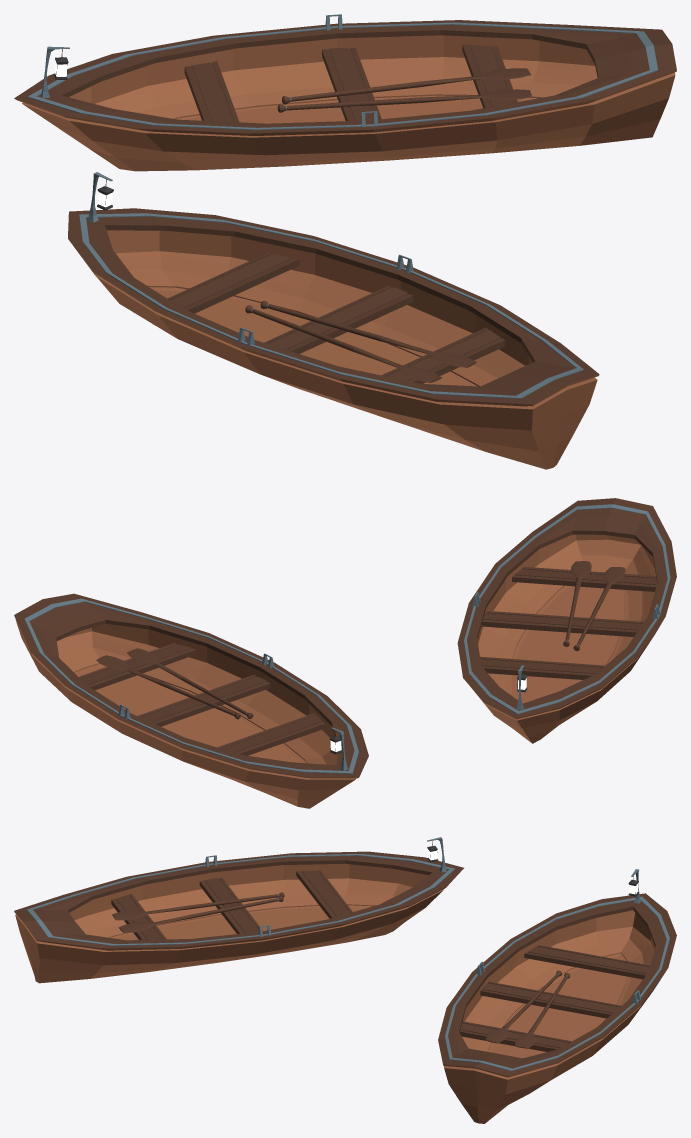
The model's file is Boats.glb.
The picture shows the model from 3 angles, top to bottom: view 1: azimuth 30°, elevation 25°; view 2: azimuth 150°, elevation 25°; view 3: azimuth 270°, elevation 25°; orthographic projection. The views are drawn at different scales.
Parts seen in each view (by area): view 1: botobj_Mesh, botobj_Mesh1; view 2: botobj_Mesh, botobj_Mesh1; view 3: botobj_Mesh1, botobj_Mesh.
Boxes of the visible parts, x1,y1,x2,y2 form: botobj_Mesh: (14, 14, 676, 171); botobj_Mesh1: (68, 172, 599, 469); botobj_Mesh: (14, 593, 368, 808); botobj_Mesh1: (457, 498, 676, 743); botobj_Mesh1: (14, 837, 463, 983); botobj_Mesh: (438, 869, 676, 1123).
Size of the model in its own units: 0.0968 by 0.0173 by 0.1187.
